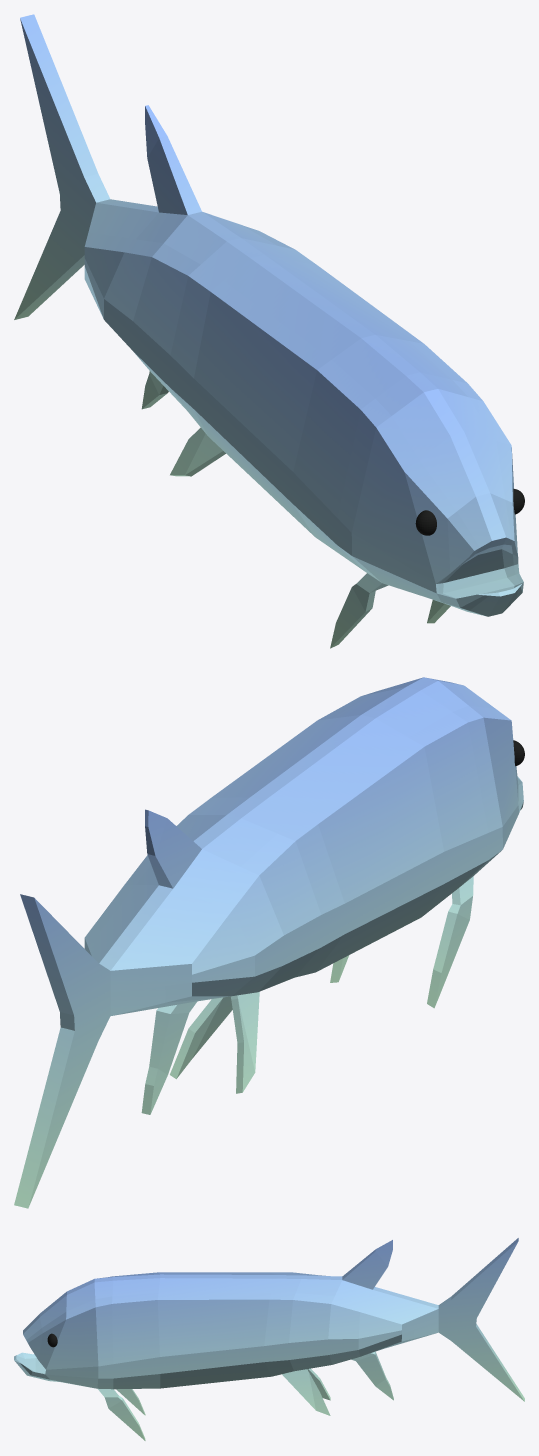
Rendered from Dino_Fih3.fbx.
3 views of the same model, one above another, from view 1: azimuth 30°, elevation 25°; view 2: azimuth 150°, elevation 25°; view 3: azimuth 270°, elevation 25° (orthographic). The views are drawn at different scales.
Parts seen in each view (by area): view 1: fih; view 2: fih; view 3: fih.
Part boxes in pixels (x1=…): fih: x1=14, y1=14, x2=523, y2=648; fih: x1=14, y1=677, x2=523, y2=1208; fih: x1=14, y1=1238, x2=524, y2=1440.
Size of the model in its own units: 0.1869 by 0.4259 by 1.04.
